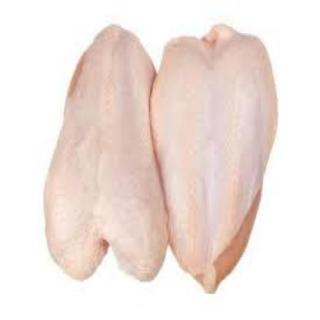Ayam: (46, 24, 279, 293), (152, 27, 276, 294), (45, 24, 167, 284)
